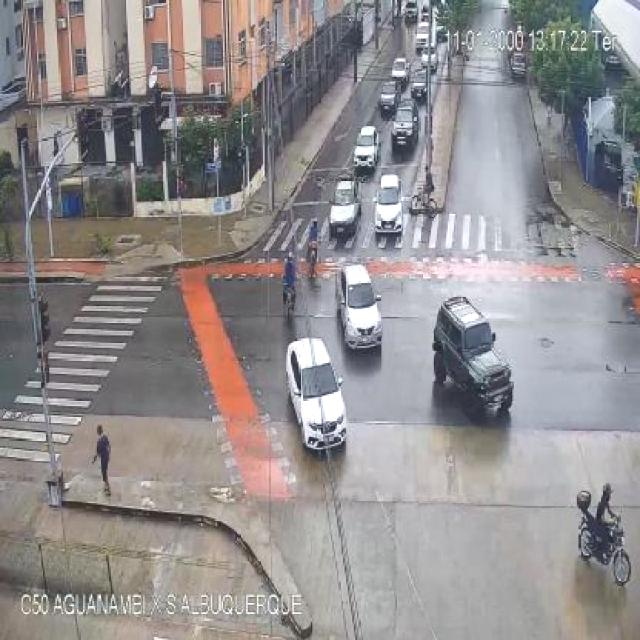Car: (432, 295, 519, 413), (285, 335, 348, 453), (332, 261, 385, 354), (330, 174, 362, 237), (377, 177, 403, 244), (389, 101, 419, 157), (349, 125, 381, 172), (376, 76, 401, 120), (386, 56, 411, 84), (410, 72, 430, 107), (404, 2, 419, 24)
Cycle: (572, 482, 636, 592), (412, 166, 439, 222), (280, 250, 297, 319), (304, 214, 320, 281)
